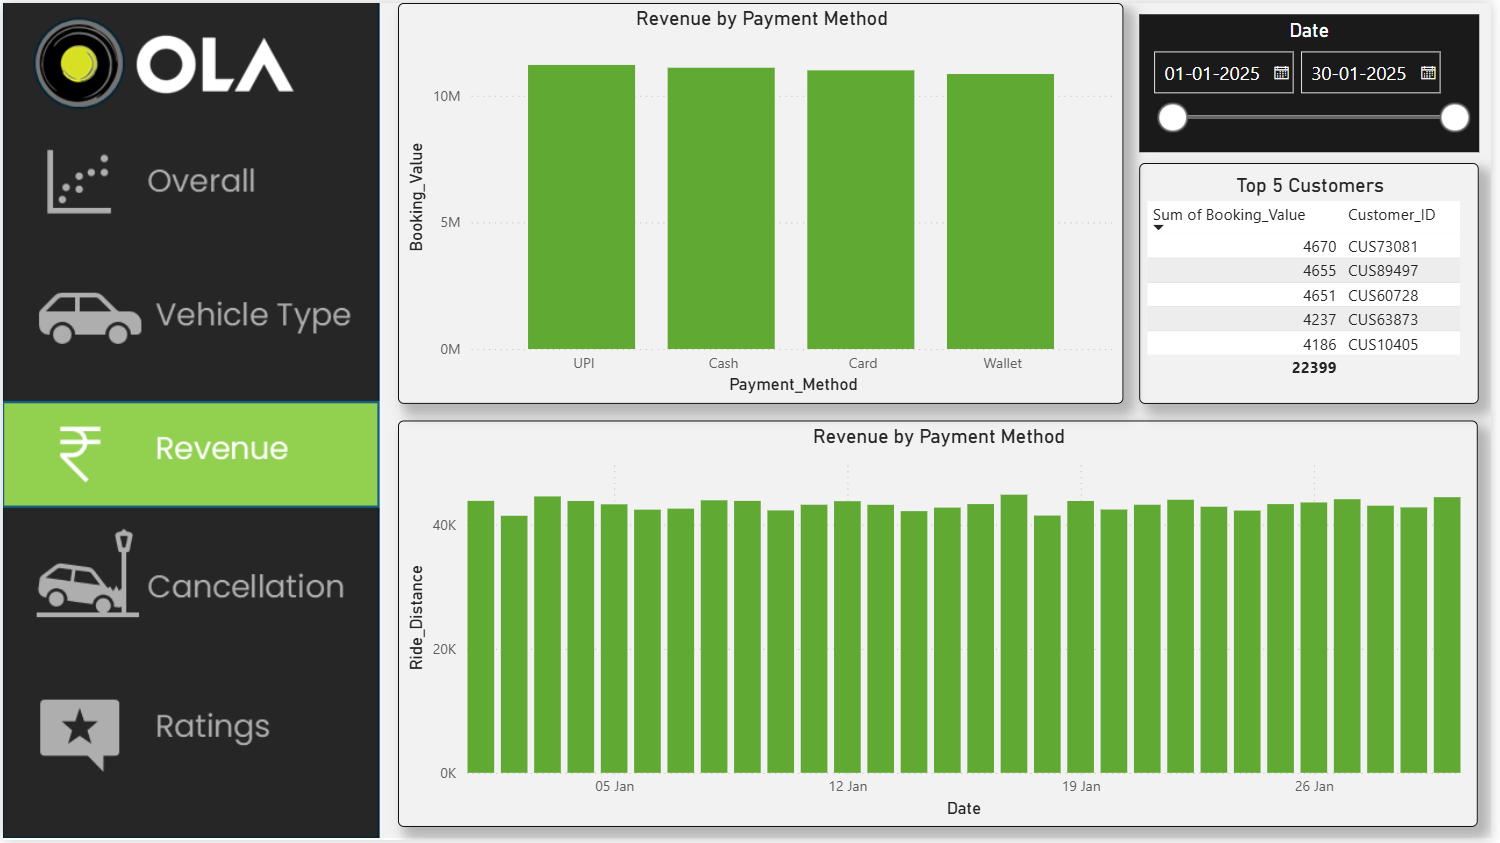

What the dashboard file says about the page in this screenshot:
{"tool":"powerbi","page":{"name":"Revenue","canvas":[1280,720],"ordinal":2},"visuals":[{"type":"textbox","box":[0,112.5,322.5,87.8],"z":0},{"type":"textbox","box":[1.4,459.7,322.5,87.8],"z":1000},{"type":"textbox","box":[0,219.6,322.5,89.2],"z":2000},{"type":"textbox","box":[0,580.4,322.5,89.2],"z":3000},{"type":"columnChart","title":"Revenue by Payment Method","fields":{"Category":["Ride_Data.Payment_Method"],"Y":["Sum(Ride_Data.Booking_Value)"]},"box":[340.3,0,624.4,344.4],"z":4000},{"type":"columnChart","title":"Revenue by Payment Method","fields":{"Category":["Ride_Data.Date"],"Y":["Sum(Ride_Data.Ride_Distance)"]},"box":[340.2,359.5,929,349.9],"z":5000},{"type":"slicer","title":"Date","fields":{"Values":["Ride_Data.Date"]},"box":[977,9.6,292.3,118],"z":6000},{"type":"tableEx","title":"Top 5 Customers","fields":{"Values":["Sum(Ride_Data.Booking_Value)","Ride_Data.Customer_ID"]},"box":[977,137.2,292.3,207.2],"z":6001}]}

Visuals, with their boxes on the page's 1280x720 design canvas (x1, y1, x2, y2). These are canvas units, not pixel positions in the 1500x843 screenshot, which may show the page scaled, cropped or inside an application window:
textbox: l=0, t=112, r=322, b=200
textbox: l=1, t=460, r=324, b=548
textbox: l=0, t=220, r=322, b=309
textbox: l=0, t=580, r=322, b=670
"Revenue by Payment Method" columnChart: l=340, t=0, r=965, b=344
"Revenue by Payment Method" columnChart: l=340, t=360, r=1269, b=709
"Date" slicer: l=977, t=10, r=1269, b=128
"Top 5 Customers" tableEx: l=977, t=137, r=1269, b=344
